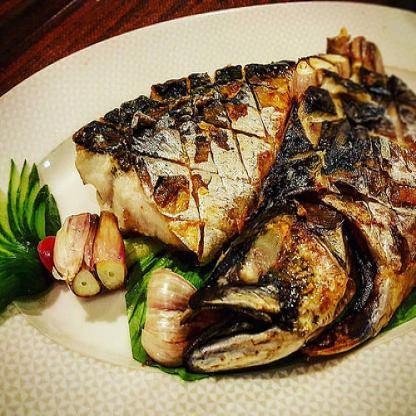Peixe: (58, 25, 412, 372)
